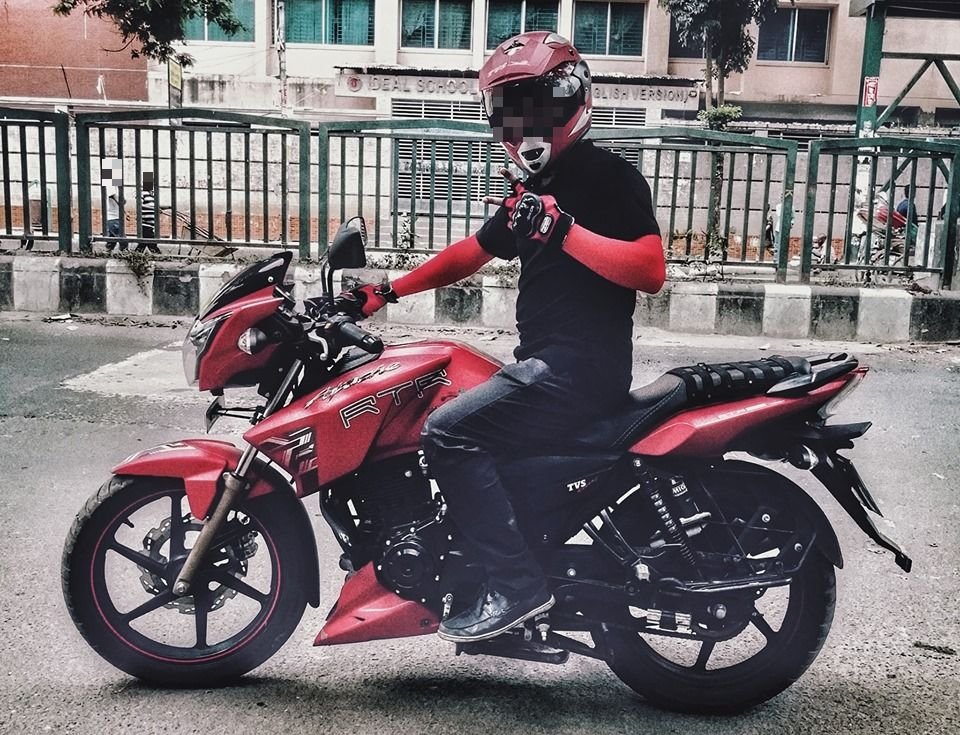bike: (54, 216, 905, 714)
